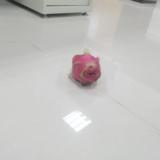pitaya: (71, 51, 101, 85)
